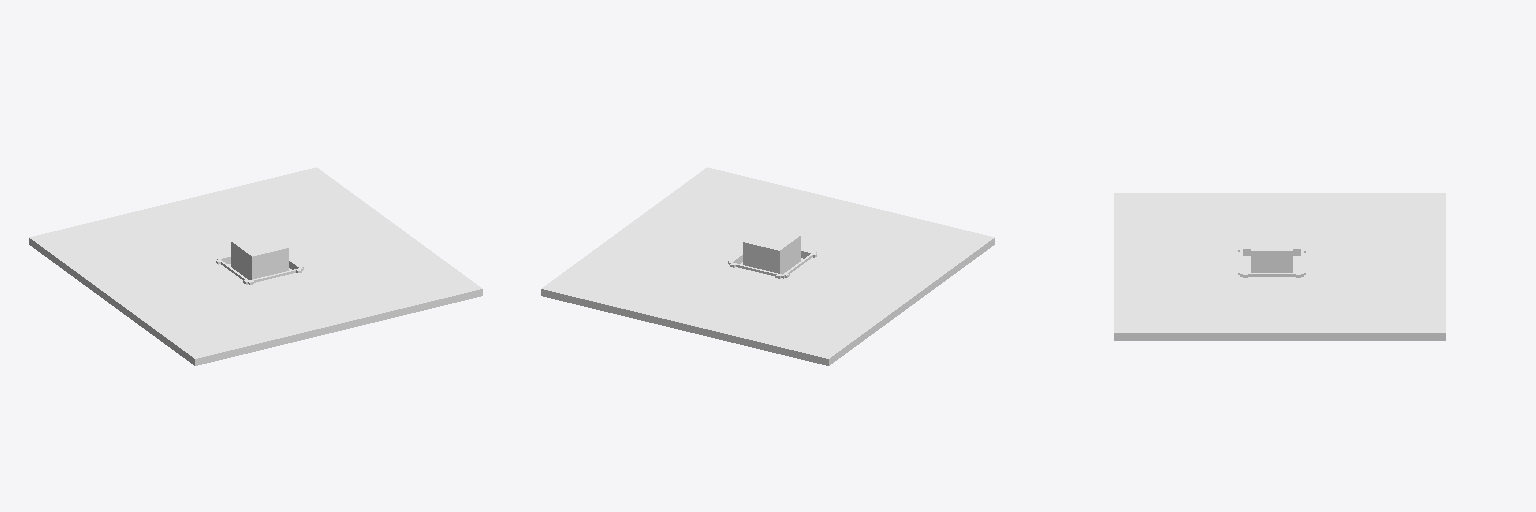
Rendered from altarscene.obj.
3 renders of one model, left to right at view 1: azimuth 30°, elevation 25°; view 2: azimuth 150°, elevation 25°; view 3: azimuth 270°, elevation 25°, orthographic.
Size of the model in its own units: 126 by 12 by 126.